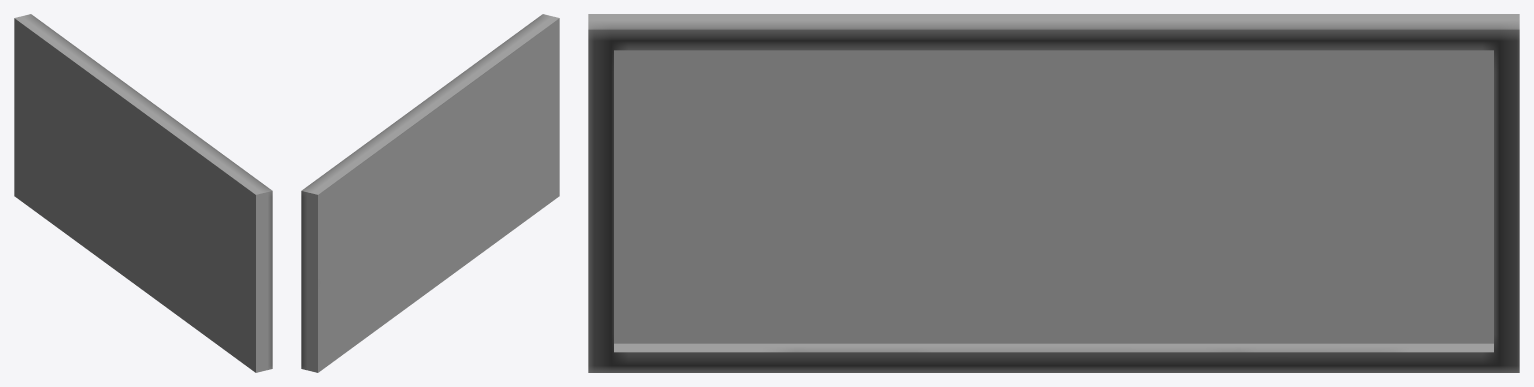
File: Add_3.fbx
The picture shows the model from 3 angles, left to right: view 1: azimuth 30°, elevation 25°; view 2: azimuth 150°, elevation 25°; view 3: azimuth 270°, elevation 25°; orthographic projection. The views are drawn at different scales.
Parts seen in each view (by area): view 1: Cube.043; view 2: Cube.043; view 3: Cube.043.
Boxes of the visible parts, x1,y1,x2,y2 form: Cube.043: (14,14,272,372); Cube.043: (301,14,559,372); Cube.043: (588,14,1519,372).
Bounding box in the file's own units: 34.37 × 348 × 856.
